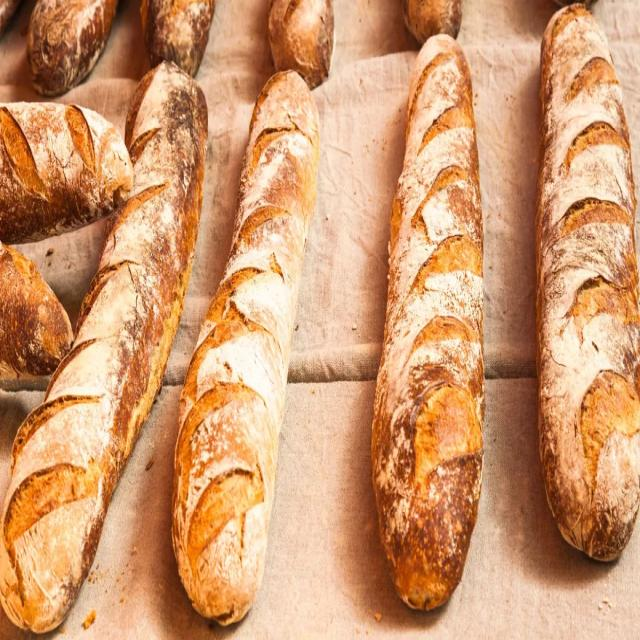Baguette: (0, 62, 207, 631), (172, 70, 318, 624), (372, 35, 485, 609), (535, 5, 639, 561)
